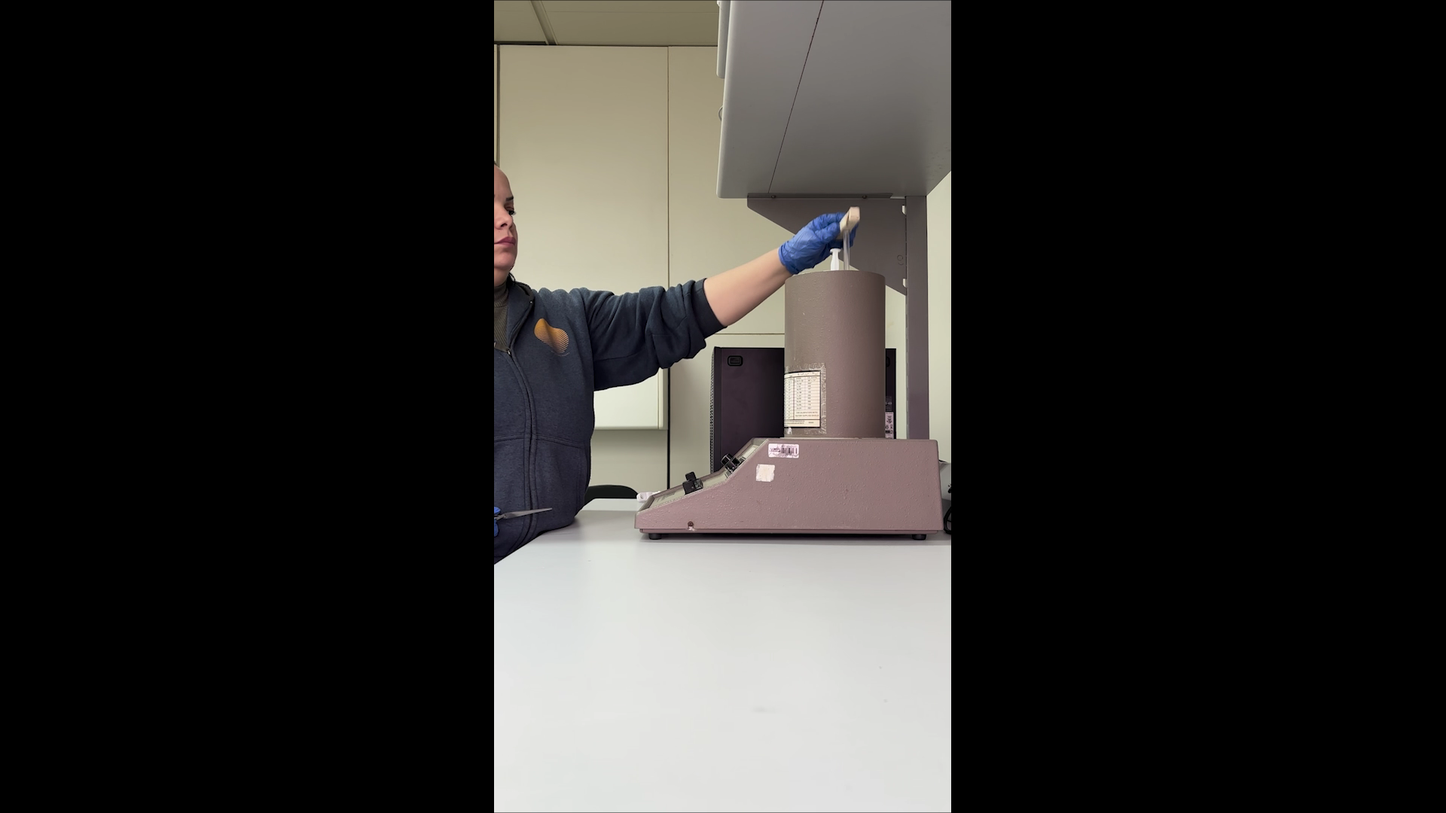Amostra: (828, 243, 840, 272)
Ativimetro: (782, 268, 887, 437)
Com_Luva: (777, 208, 858, 272)
